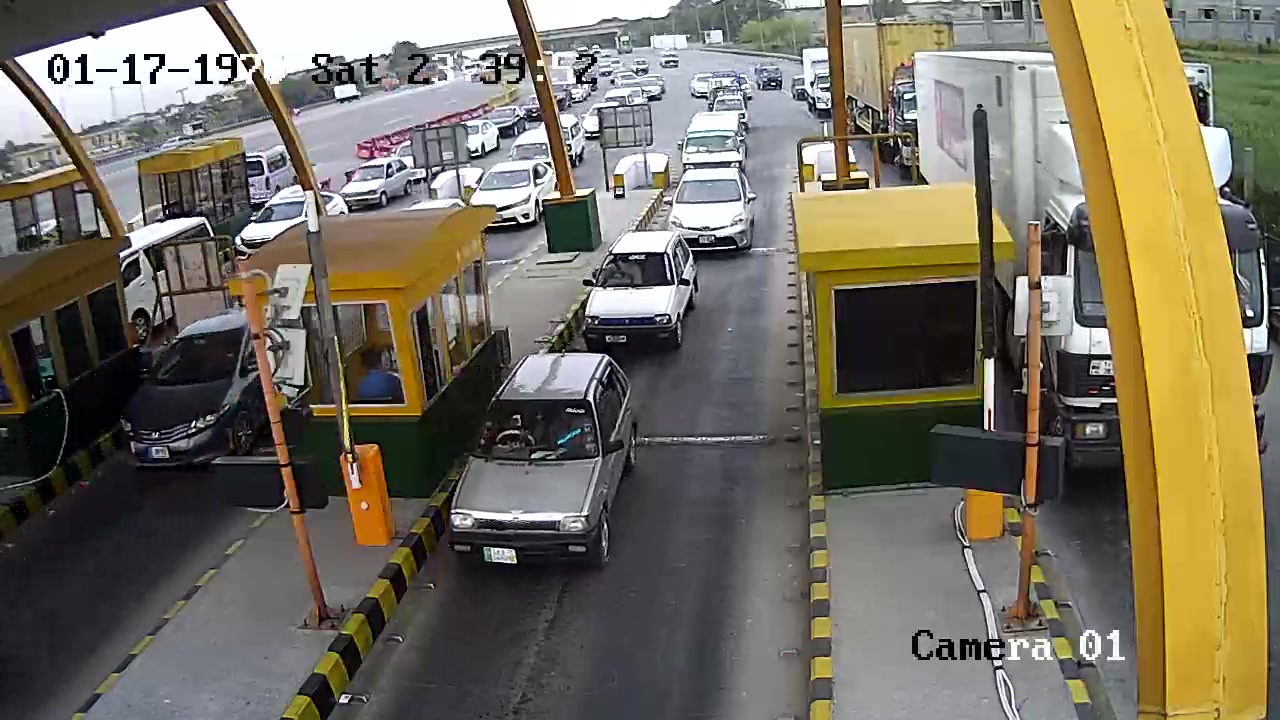F1: (447, 355, 670, 575), (566, 230, 701, 355)
